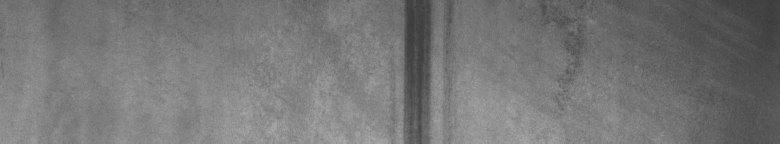ka: (392, 4, 453, 136)
